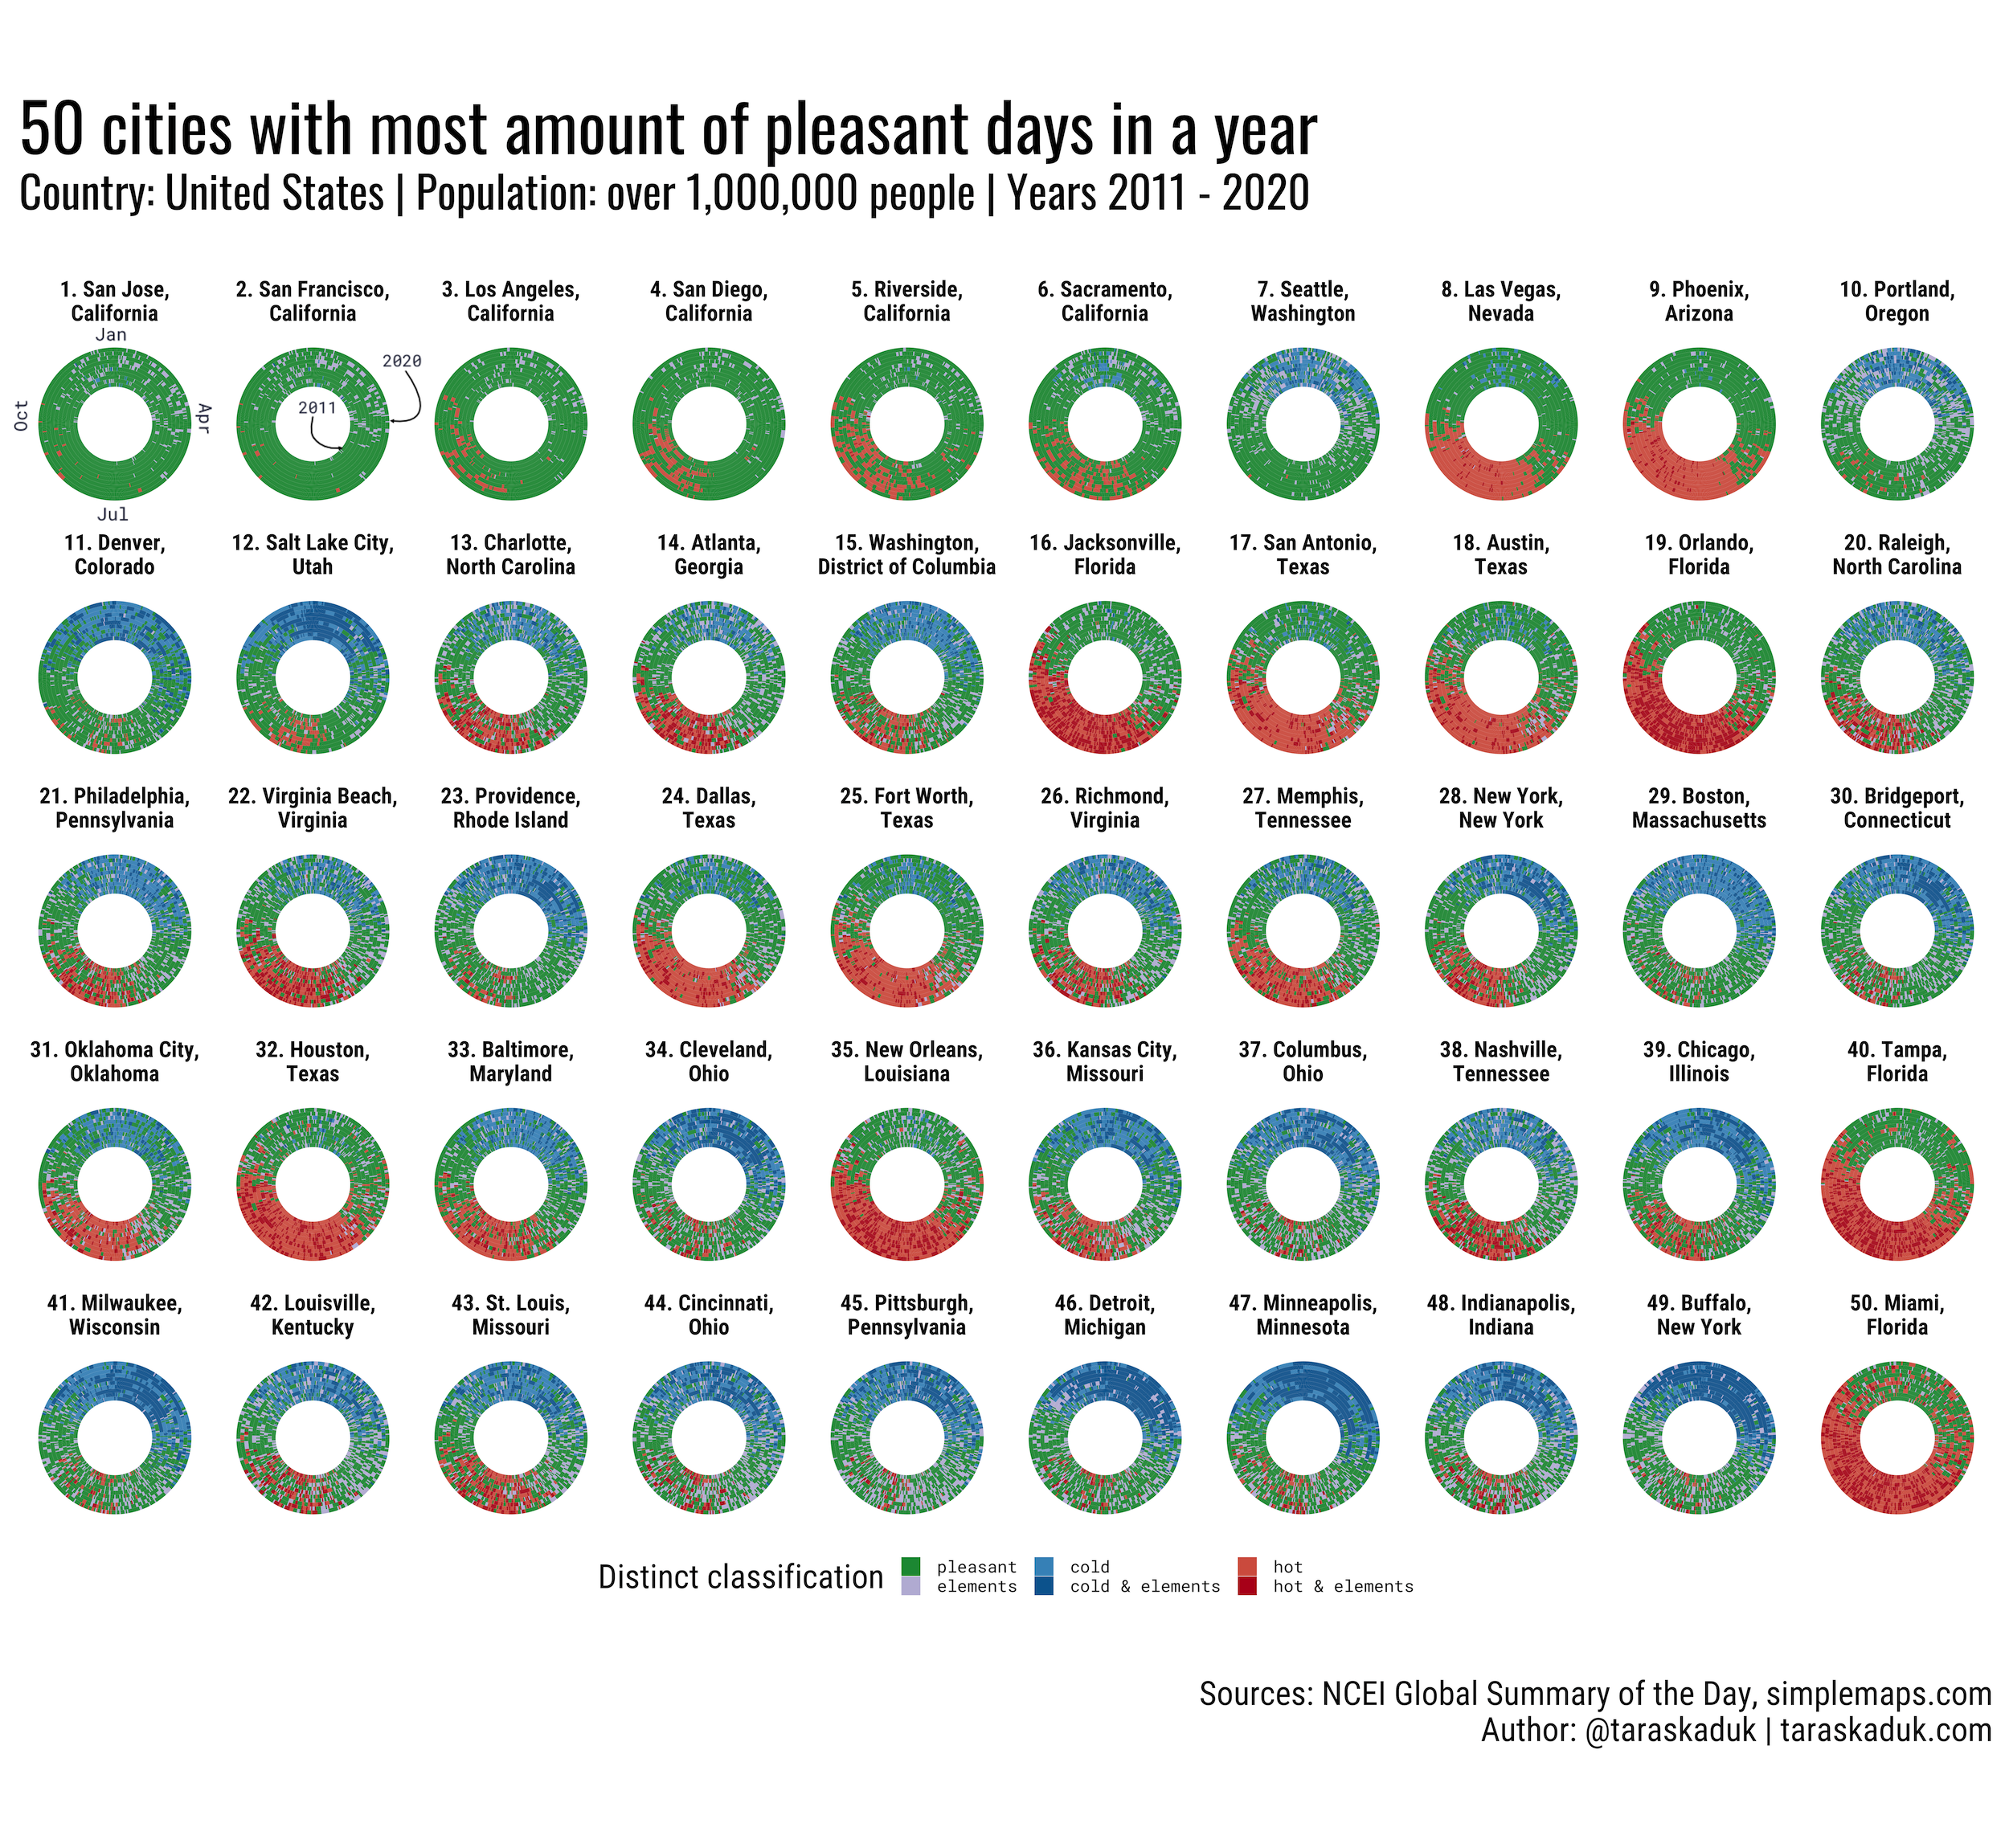

The page's visual inventory and layout, read from the dashboard file:
{"tool":"tableau","page":{"name":"Radial Stack Bar Charts","canvas":[900,800],"ordinal":0},"visuals":[{"type":"worksheet","title":"radial stacked bar","mark":"Polygon","box":[0,0,796,800]},{"type":"legend","title":"radial stacked bar","param":"[federated.0d4brrl0id6ggj1ffol9q0xiccq4].[none:Calculation_4518799278402621453:n","box":[796,0,104,90]},{"type":"parameter","param":"[Parameters].[Parameter 4]","box":[796,90,104,52]},{"type":"parameter","param":"[Parameters].[Parameter 1]","box":[796,142,104,52]},{"type":"parameter","param":"[Parameters].[Parameter 2]","box":[796,194,104,52]},{"type":"parameter","param":"[Parameters].[Parameter 3]","box":[796,246,104,52]},{"type":"worksheet","title":"social","mark":"Shape","cols":["Platform"],"box":[840,770,60,30]}]}

Visuals, with their boxes on the page's 900x800 design canvas (x1, y1, x2, y2). These are canvas units, not pixel positions in the 2009x1848 screenshot, which may show the page scaled, cropped or inside an application window:
"radial stacked bar" worksheet (Polygon marks): <box>0,0,796,800</box>
"radial stacked bar" legend: <box>796,0,900,90</box>
parameter: <box>796,90,900,142</box>
parameter: <box>796,142,900,194</box>
parameter: <box>796,194,900,246</box>
parameter: <box>796,246,900,298</box>
"social" worksheet (Shape marks): <box>840,770,900,800</box>
